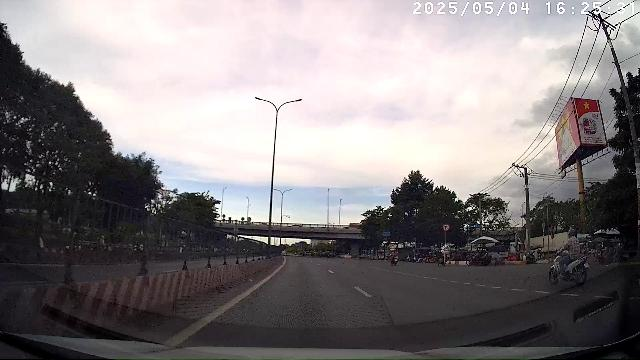123b-cam-re-phai: (442, 223, 450, 231)
